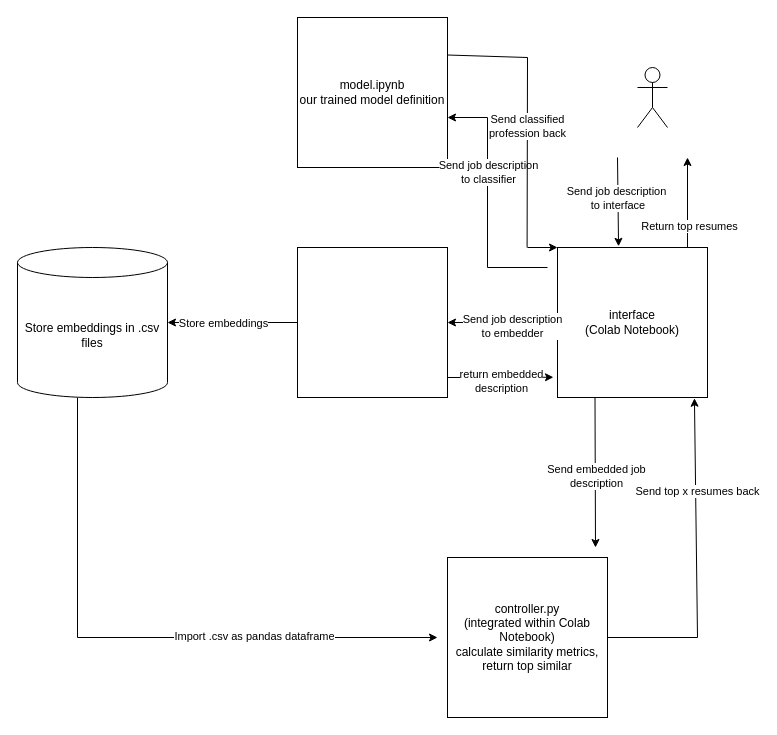
This 777x735 diagram has some shape labels left out. The shapes that lost their labels are listed below. From the top down, each one's centre as x and y in pixels, then its label:
pixel 652 97: User
pixel 372 322: embedder.py Script to generate embeddings
